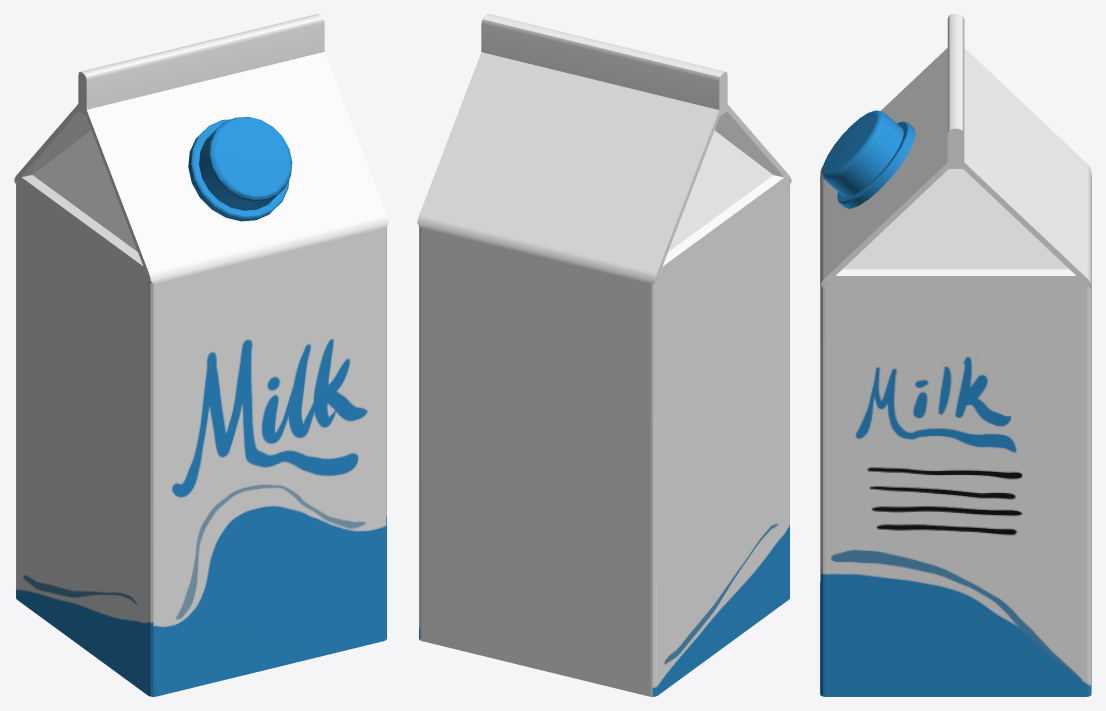
File: milk box.fbx
3 views of the same model, side by side, from view 1: azimuth 30°, elevation 25°; view 2: azimuth 150°, elevation 25°; view 3: azimuth 270°, elevation 25° (orthographic).
Parts seen in each view (by area): view 1: pCubeShape1; view 2: pCubeShape1; view 3: pCubeShape1.
Boxes of the visible parts, x1,y1,x2,y2 form: pCubeShape1: [14, 14, 388, 696]; pCubeShape1: [417, 14, 791, 696]; pCubeShape1: [820, 14, 1091, 696].
Bounding box in the file's own units: 3.38 × 7.8 × 3.38.
1 material, 1 textured.
